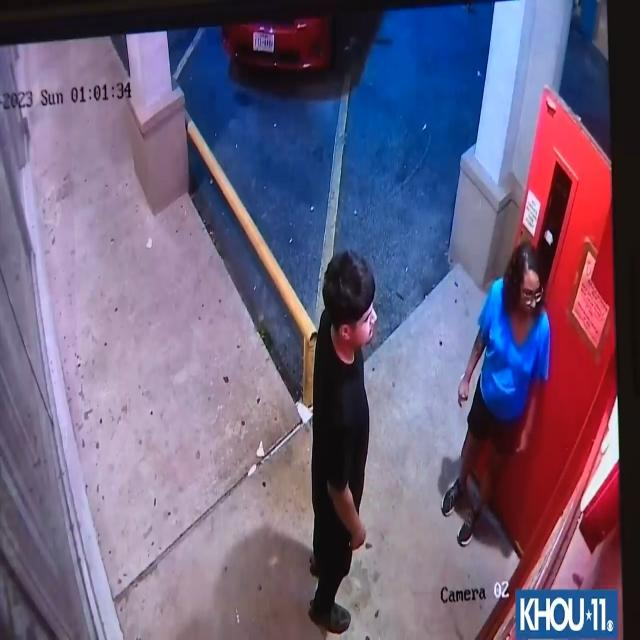Person: (456, 244, 556, 551), (308, 246, 380, 640)
